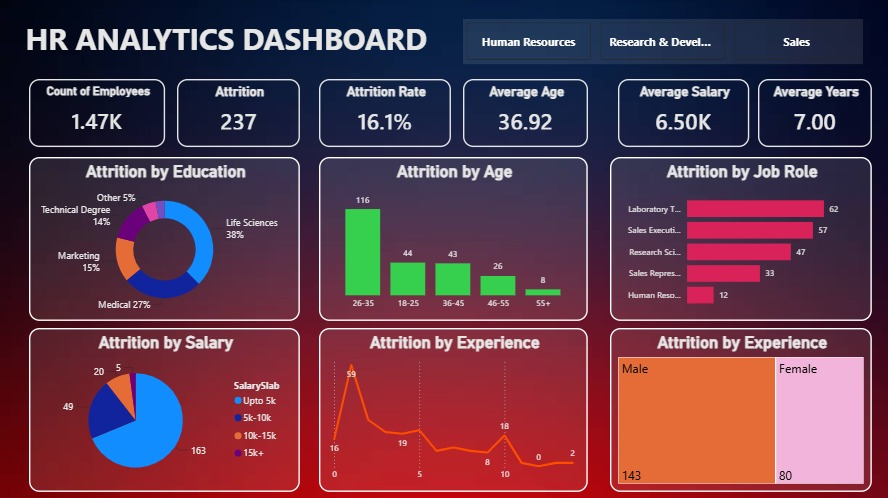

This screenshot's page, from the dashboard's own definition file:
{"tool":"powerbi","page":{"name":"Page 1","canvas":[1280,720],"ordinal":0},"visuals":[{"type":"cardVisual","title":"Count of Employees","fields":{"Data":["Count(HR_Analytics.EmpID)"]},"box":[41.8,115.2,195.8,97.9],"z":0},{"type":"cardVisual","title":"Attrition","fields":{"Data":["Sum(HR_Analytics.Attrition_Count)"]},"box":[254.9,115.2,177.1,97.9],"z":1000},{"type":"cardVisual","title":"Attrition Rate","fields":{"Data":["HR_Analytics.Attrition_Rate"]},"box":[459.4,115.2,190.1,97.9],"z":2000},{"type":"cardVisual","title":"Average Age","fields":{"Data":["Avg(HR_Analytics.Age)"]},"box":[666.7,115.2,180,97.9],"z":3000},{"type":"cardVisual","title":"Average Salary","fields":{"Data":["Avg(HR_Analytics.MonthlyIncome)"]},"box":[889.9,115.2,188.6,97.9],"z":4000},{"type":"cardVisual","title":"Average Years","fields":{"Data":["Avg(HR_Analytics.YearsAtCompany)"]},"box":[1091.5,115.2,164.2,97.9],"z":5000},{"type":"donutChart","title":"Attrition by Education","fields":{"Category":["HR_Analytics.EducationField"],"Y":["Sum(HR_Analytics.Attrition_Count)"]},"box":[41.8,227.5,390.2,236.2],"z":6000},{"type":"columnChart","title":"Attrition by Age","fields":{"Y":["Sum(HR_Analytics.Attrition_Count)"],"Category":["HR_Analytics.AgeGroup"]},"box":[459.4,227.5,387.4,236.2],"z":7000},{"type":"clusteredBarChart","title":"Attrition by Job Role","fields":{"Category":["HR_Analytics.JobRole"],"Y":["Sum(HR_Analytics.Attrition_Count)"]},"box":[878.4,227.5,377.3,236.2],"z":8000},{"type":"pieChart","title":"Attrition by Salary","fields":{"Y":["Sum(HR_Analytics.Attrition_Count)"],"Category":["HR_Analytics.SalarySlab"]},"box":[41.8,473.8,390.2,236.2],"z":9000},{"type":"lineChart","title":"Attrition by Experience","fields":{"Category":["HR_Analytics.YearsAtCompany"],"Y":["Sum(HR_Analytics.Attrition_Count)"]},"box":[459.4,473.8,387.4,236.2],"z":10000},{"type":"treemap","title":"Attrition by Experience","fields":{"Values":["Sum(HR_Analytics.Attrition_Count)"],"Group":["HR_Analytics.Gender"]},"box":[878.4,473.8,377.3,236.2],"z":11000},{"type":"advancedSlicerVisual","fields":{"Values":["HR_Analytics.Department"]},"box":[666.7,28.8,576,64.8],"z":12000},{"type":"textbox","box":[11.5,23,627.8,77.8],"z":13000}]}

Visuals, with their boxes in screenshot pixels (x1, y1, x2, y2), scaled from the page's 1280x720 canvas onto the 888x498 screenshot:
"Count of Employees" cardVisual: bbox(29, 80, 165, 147)
"Attrition" cardVisual: bbox(177, 80, 300, 147)
"Attrition Rate" cardVisual: bbox(319, 80, 451, 147)
"Average Age" cardVisual: bbox(463, 80, 587, 147)
"Average Salary" cardVisual: bbox(617, 80, 748, 147)
"Average Years" cardVisual: bbox(757, 80, 871, 147)
"Attrition by Education" donutChart: bbox(29, 157, 300, 321)
"Attrition by Age" columnChart: bbox(319, 157, 587, 321)
"Attrition by Job Role" clusteredBarChart: bbox(609, 157, 871, 321)
"Attrition by Salary" pieChart: bbox(29, 328, 300, 491)
"Attrition by Experience" lineChart: bbox(319, 328, 587, 491)
"Attrition by Experience" treemap: bbox(609, 328, 871, 491)
advancedSlicerVisual - HR_Analytics.Department: bbox(463, 20, 862, 65)
textbox: bbox(8, 16, 444, 70)
